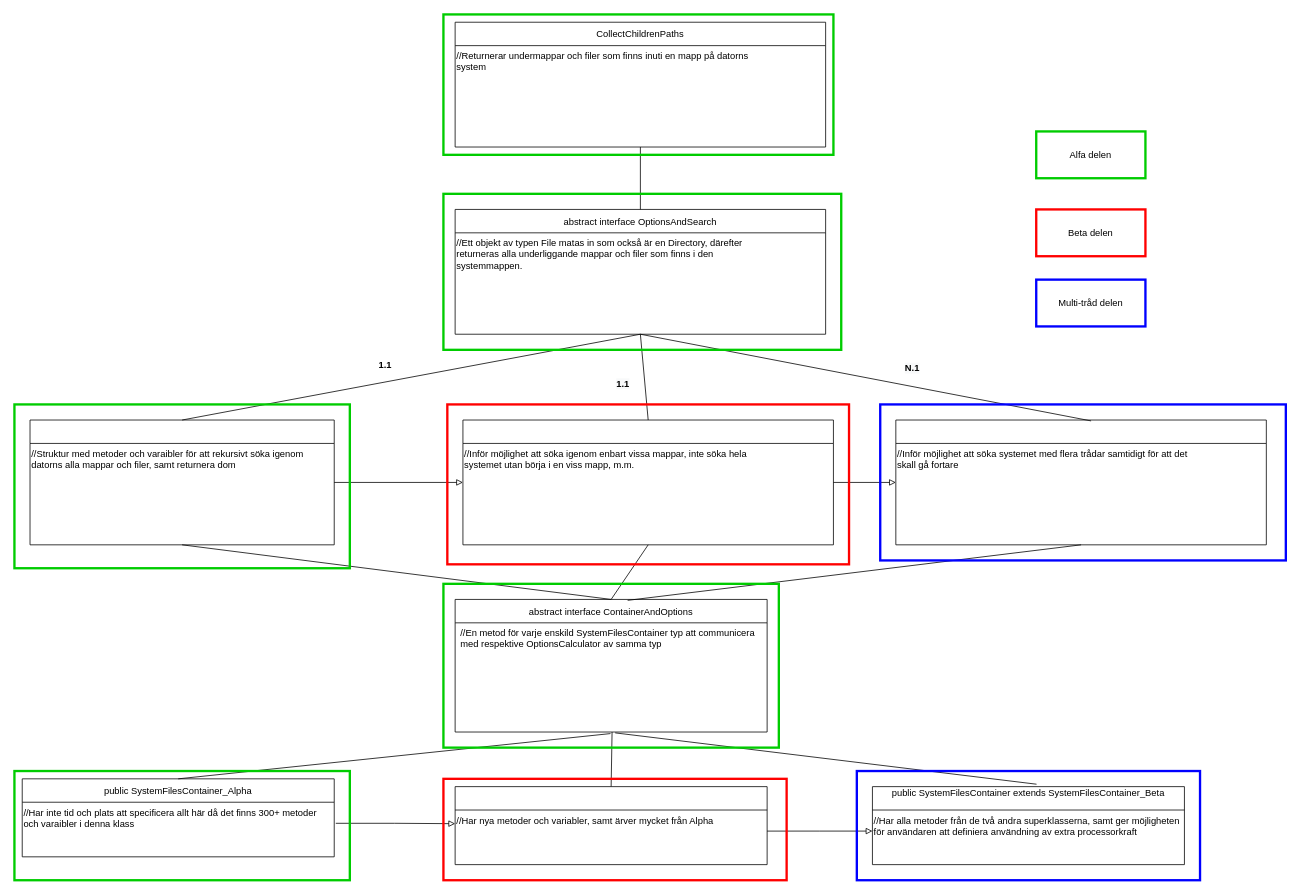
This 1300x895 diagram has some shape labels left out. Here are the shapes that lost their labels. From the top down, the box of each, then its label:
(29, 419, 334, 545): OptionSettingsCalculation_Alpha
(462, 419, 833, 545): OptionSettingsCalculation_Beta extends OptionSettingsCalculation_Alpha
(895, 419, 1266, 545): OptionSettingsCalculation extends OptionSettingsCalculation_Beta
(454, 786, 767, 865): public SystemFilesContainer_Beta extends SystemFilesContainer_Alpha
